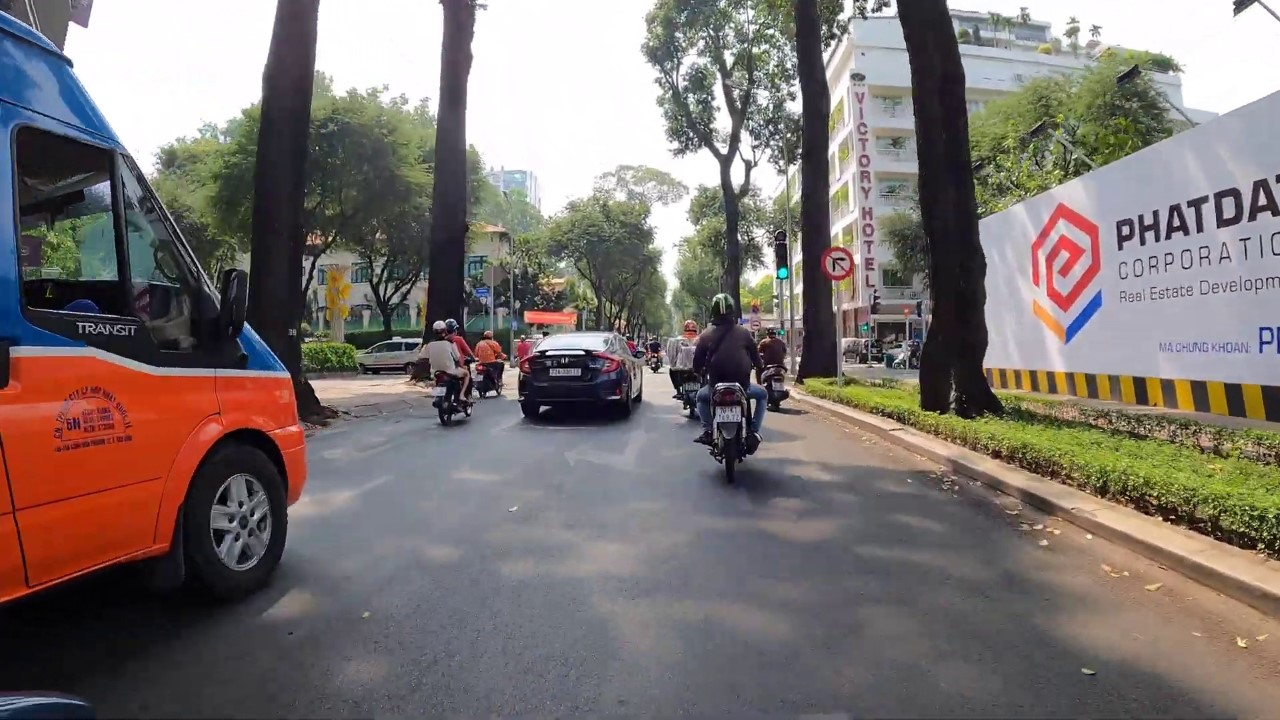cam_do_xe: (752, 305, 760, 315)
cam_re_phai: (820, 246, 855, 282)
